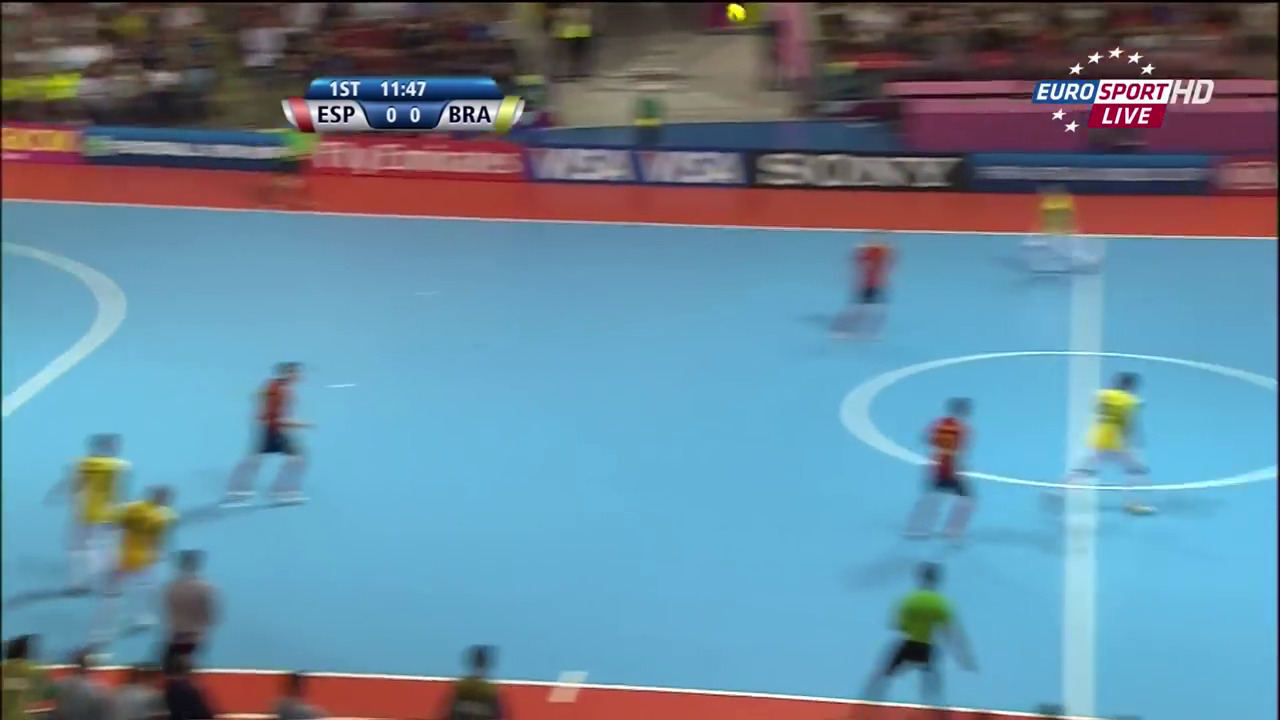ball: (720, 3, 750, 25)
person: (1058, 367, 1164, 524), (226, 359, 312, 510), (43, 435, 130, 580), (907, 390, 972, 542), (105, 487, 174, 617), (1022, 177, 1095, 276), (836, 227, 893, 342)
